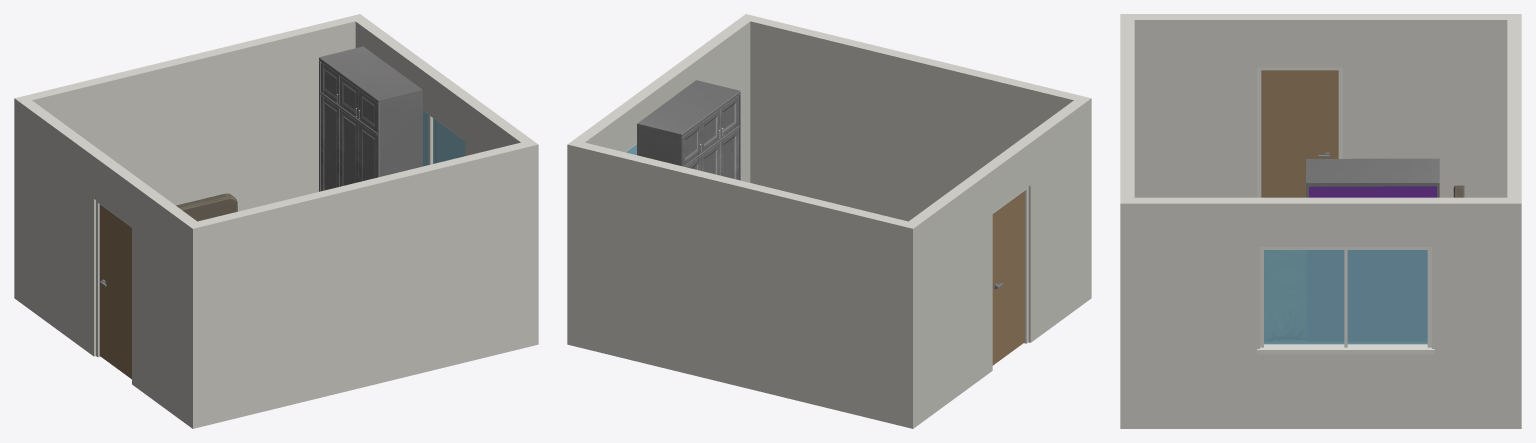
The model's file is diffuscene.glb.
The picture shows the model from 3 angles, left to right: view 1: azimuth 30°, elevation 25°; view 2: azimuth 150°, elevation 25°; view 3: azimuth 270°, elevation 25°; orthographic projection. The views are drawn at different scales.
Visible parts, largest first — view 1: wall|scenesmith_047__R00|0, wall|scenesmith_047__R00|1, wall|scenesmith_047__R00|2, raw_model, wall|scenesmith_047__R00|3, wall|scenesmith_047__R00|2 Door 0 | wood leaf, wall|scenesmith_047__R00|3 Window 0 | glazing, raw_model.003, wall|scenesmith_047__R00|2 Door 0 | jamb; view 2: wall|scenesmith_047__R00|1, wall|scenesmith_047__R00|0, wall|scenesmith_047__R00|2, wall|scenesmith_047__R00|3, raw_model, wall|scenesmith_047__R00|2 Door 0 | wood leaf, wall|scenesmith_047__R00|2 Door 0 | jamb; view 3: wall|scenesmith_047__R00|3, wall|scenesmith_047__R00|2, wall|scenesmith_047__R00|3 Window 0 | glazing, wall|scenesmith_047__R00|2 Door 0 | wood leaf, wall|scenesmith_047__R00|1, wall|scenesmith_047__R00|0, raw_model, wall|scenesmith_047__R00|3 Window 0 | jamb, wall|scenesmith_047__R00|2 Door 0 | jamb.
Boxes of the visible parts, <box> form: wall|scenesmith_047__R00|0: <box>187,140,538,428</box>; wall|scenesmith_047__R00|1: <box>15,14,365,211</box>; wall|scenesmith_047__R00|2: <box>14,98,203,428</box>; raw_model: <box>319,46,422,191</box>; wall|scenesmith_047__R00|3: <box>354,14,536,155</box>; wall|scenesmith_047__R00|2 Door 0 | wood leaf: <box>99,204,131,379</box>; wall|scenesmith_047__R00|3 Window 0 | glazing: <box>423,111,465,166</box>; raw_model.003: <box>176,193,237,221</box>; wall|scenesmith_047__R00|2 Door 0 | jamb: <box>96,200,131,357</box>; wall|scenesmith_047__R00|1: <box>567,140,918,426</box>; wall|scenesmith_047__R00|0: <box>740,14,1090,221</box>; wall|scenesmith_047__R00|2: <box>902,98,1091,428</box>; wall|scenesmith_047__R00|3: <box>570,14,755,182</box>; raw_model: <box>637,80,740,180</box>; wall|scenesmith_047__R00|2 Door 0 | wood leaf: <box>992,191,1024,365</box>; wall|scenesmith_047__R00|2 Door 0 | jamb: <box>992,187,1028,343</box>; wall|scenesmith_047__R00|3: <box>1120,197,1521,428</box>; wall|scenesmith_047__R00|2: <box>1134,14,1507,197</box>; wall|scenesmith_047__R00|3 Window 0 | glazing: <box>1264,250,1427,344</box>; wall|scenesmith_047__R00|2 Door 0 | wood leaf: <box>1261,70,1338,197</box>; wall|scenesmith_047__R00|1: <box>1507,14,1521,428</box>; wall|scenesmith_047__R00|0: <box>1120,14,1134,428</box>; raw_model: <box>1306,158,1439,197</box>; wall|scenesmith_047__R00|3 Window 0 | jamb: <box>1257,247,1434,354</box>; wall|scenesmith_047__R00|2 Door 0 | jamb: <box>1257,67,1342,197</box>.
Size of the model in its own units: 4.73 by 2.64 by 4.2.
Materials: 9 (3 with a texture image).
